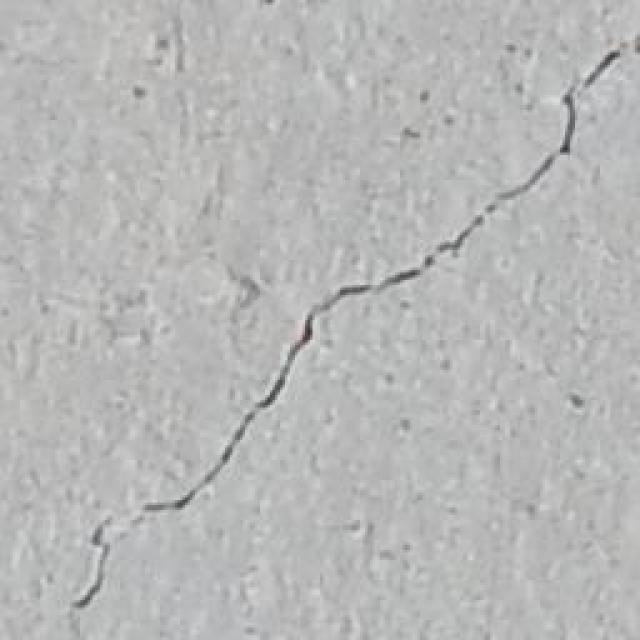concrete-crack: (61, 37, 635, 624)
